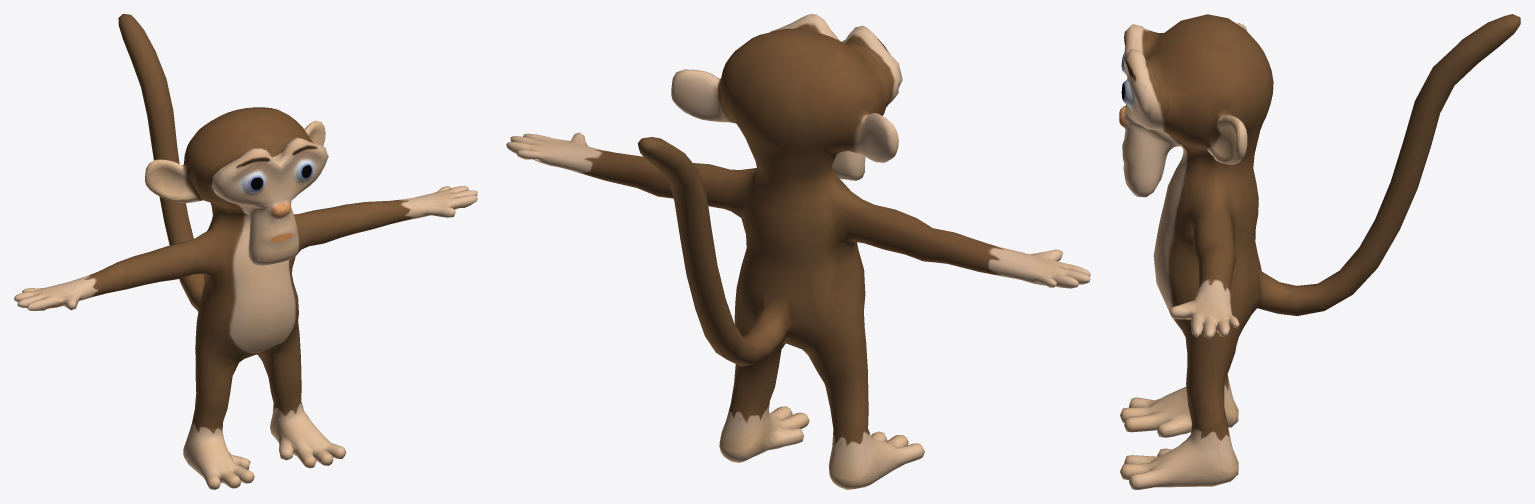
Rendered from monkey_2.8.obj.
The picture shows the model from 3 angles, left to right: view 1: azimuth 30°, elevation 25°; view 2: azimuth 150°, elevation 25°; view 3: azimuth 270°, elevation 25°; orthographic projection. The views are drawn at different scales.
Parts seen in each view (by area): view 1: monkey_final_monkey_finalmesh; view 2: monkey_final_monkey_finalmesh; view 3: monkey_final_monkey_finalmesh.
Part boxes in pixels (<box>): monkey_final_monkey_finalmesh: <box>14,14,477,489</box>; monkey_final_monkey_finalmesh: <box>506,14,1090,489</box>; monkey_final_monkey_finalmesh: <box>1119,14,1520,489</box>.
Bounding box in the file's own units: 4.58 × 3.35 × 2.77.
